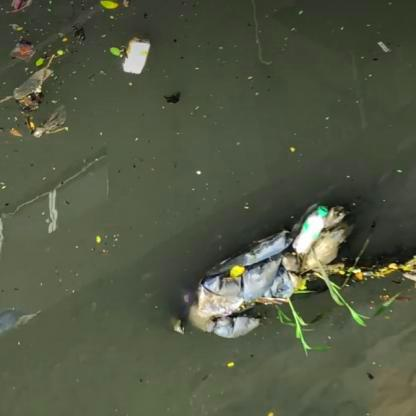Plastic: (289, 203, 330, 259)
Trash: (120, 34, 154, 76)
